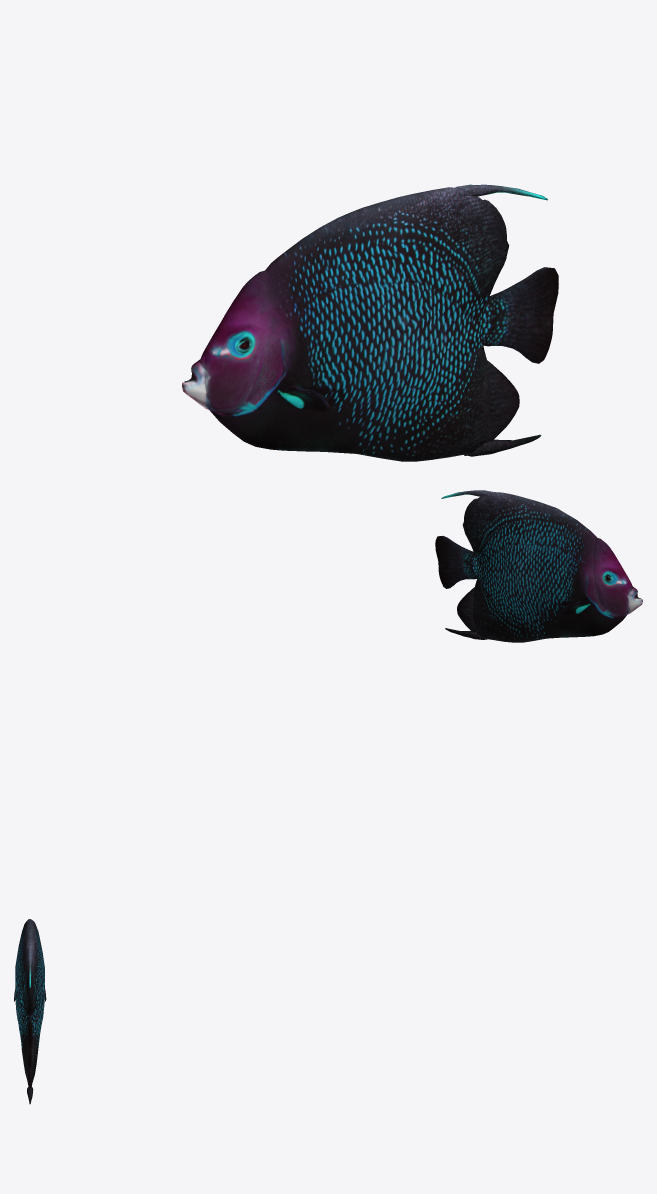
File: coralfish.fbx
The picture shows the model from 3 angles, top to bottom: view 1: azimuth 30°, elevation 25°; view 2: azimuth 150°, elevation 25°; view 3: azimuth 270°, elevation 25°; orthographic projection. The views are drawn at different scales.
Parts seen in each view (by area): view 1: model; view 2: model; view 3: model.
Boxes of the visible parts, x1,y1,x2,y2 form: model: [182, 184, 558, 461]; model: [435, 490, 642, 642]; model: [14, 919, 46, 1104].
Bounding box in the file's own units: 1363731 × 841343 × 2807976.
